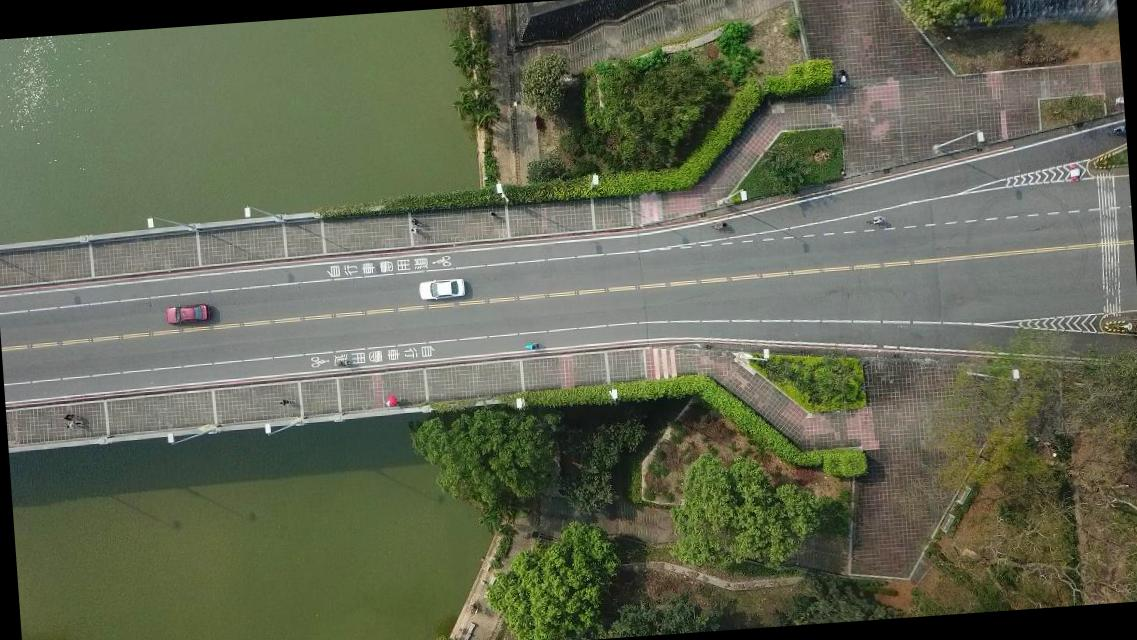vehicle: (418, 276, 466, 301), (165, 302, 210, 326)
